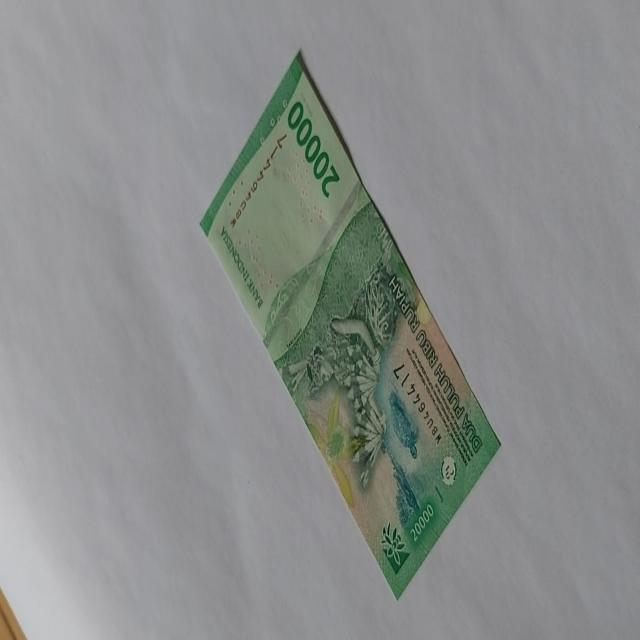dua puluh ribu rupiah: (198, 48, 502, 600)
